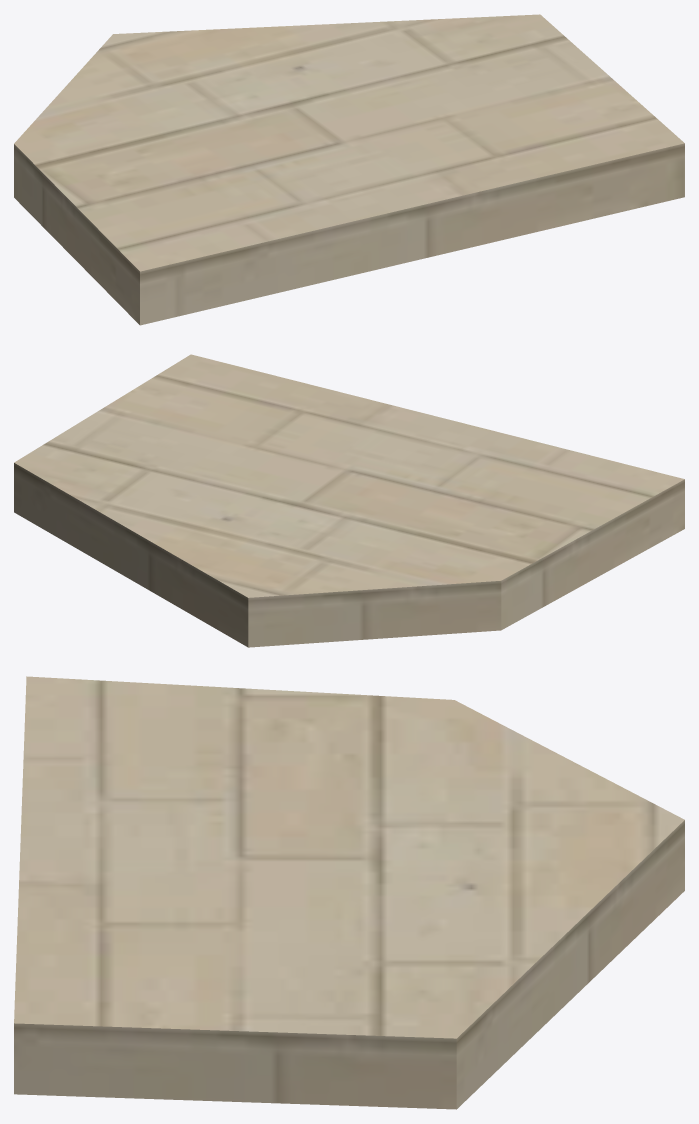
The model's file is debris_dc_slab.glb.
The picture shows the model from 3 angles, top to bottom: view 1: azimuth 30°, elevation 25°; view 2: azimuth 150°, elevation 25°; view 3: azimuth 270°, elevation 25°; orthographic projection. The views are drawn at different scales.
Visible parts, largest first — view 1: debris_dc_slab; view 2: debris_dc_slab; view 3: debris_dc_slab.
Part boxes in pixels (x1,y1,x2,y2): debris_dc_slab: [14, 14, 684, 325]; debris_dc_slab: [14, 354, 684, 647]; debris_dc_slab: [14, 676, 684, 1109].
Size of the model in its own units: 3.83 by 0.35 by 3.
Materials: 1 (1 with a texture image).
